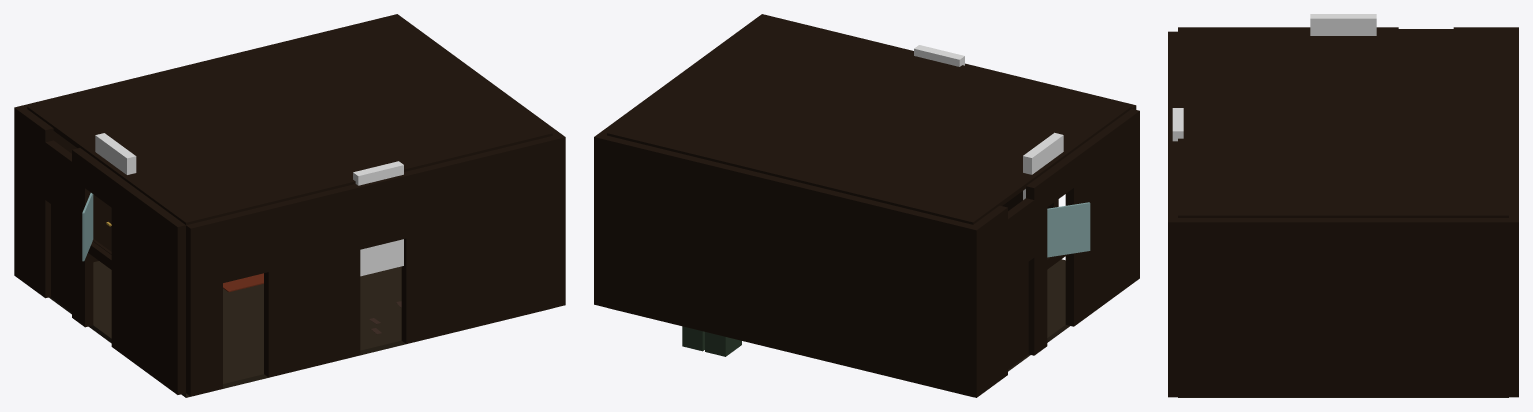
3 renders of one model, left to right at view 1: azimuth 30°, elevation 25°; view 2: azimuth 150°, elevation 25°; view 3: azimuth 270°, elevation 25°, orthographic. The views are drawn at different scales.
Visible parts, largest first — view 1: Z5_Ceiling, Z5_Wall_S_R, Z5_Wall_S_M, Z5_Wall_W_S, Z5_Floor, Z5_Wall_S_L, Z5_Wall_W_N, Z5_Wall_S_LintelZ4, Z5_Wall_S_LintelMain, Z5_Wall_W_Mid, Z5_Wall_E, Z5_Wall_W_WinL (+8 smaller); view 2: Z5_Wall_N, Z5_Ceiling, Z5_Wall_W_S, Z5_Wall_W_N, Z5_Wall_W_Mid, Z5_Wall_W_WinL, Z5_Window_Glass, Z5_SecDoor_Leaf, Z5_Wall_W_DoorLintel, Z5_Floor, Z5_Wall_E, Z5_Window_W_MARK (+5 smaller); view 3: Z5_Wall_E, Z5_Ceiling, Z5_Wall_N, Z5_Window_W_MARK, Z5_Wall_S_R, Z5_Wall_S_M, Z5_MainDoor_MARK, Z5_Floor.
Part boxes in pixels (left/top/right/bottom): Z5_Ceiling: left=27, top=17, right=552, bottom=224; Z5_Wall_S_R: left=401, top=136, right=557, bottom=343; Z5_Wall_S_M: left=264, top=184, right=360, bottom=377; Z5_Wall_W_S: left=124, top=186, right=185, bottom=394; Z5_Floor: left=49, top=261, right=549, bottom=397; Z5_Wall_S_L: left=186, top=217, right=222, bottom=396; Z5_Wall_W_N: left=19, top=109, right=53, bottom=298; Z5_Wall_S_LintelZ4: left=218, top=206, right=268, bottom=282; Z5_Wall_S_LintelMain: left=358, top=174, right=406, bottom=249; Z5_Wall_W_Mid: left=72, top=148, right=93, bottom=327; Z5_Wall_E: left=390, top=14, right=565, bottom=306; Z5_Wall_W_WinL: left=111, top=177, right=132, bottom=355; Z5_Wall_N: left=594, top=135, right=981, bottom=397; Z5_Ceiling: left=607, top=17, right=1131, bottom=224; Z5_Wall_W_S: left=1079, top=109, right=1139, bottom=316; Z5_Wall_W_N: left=973, top=205, right=1007, bottom=394; Z5_Wall_W_Mid: left=1026, top=176, right=1047, bottom=355; Z5_Wall_W_WinL: left=1065, top=147, right=1086, bottom=326; Z5_Window_Glass: left=1047, top=202, right=1090, bottom=257; Z5_SecDoor_Leaf: left=1008, top=262, right=1028, bottom=369; Z5_Wall_W_DoorLintel: left=1008, top=198, right=1034, bottom=276; Z5_Floor: left=609, top=259, right=1069, bottom=396; Z5_Wall_E: left=594, top=14, right=769, bottom=141; Z5_Window_W_MARK: left=1023, top=132, right=1063, bottom=199; Z5_Wall_E: left=1168, top=218, right=1518, bottom=397; Z5_Ceiling: left=1178, top=29, right=1508, bottom=217; Z5_Wall_N: left=1509, top=27, right=1518, bottom=397; Z5_Window_W_MARK: left=1310, top=14, right=1376, bottom=35; Z5_Wall_S_R: left=1168, top=141, right=1177, bottom=217; Z5_Wall_S_M: left=1168, top=71, right=1177, bottom=117; Z5_MainDoor_MARK: left=1172, top=108, right=1183, bottom=141; Z5_Floor: left=1178, top=397, right=1508, bottom=397.
Bounding box in the file's own units: 8.86 × 4.58 × 6.36.
